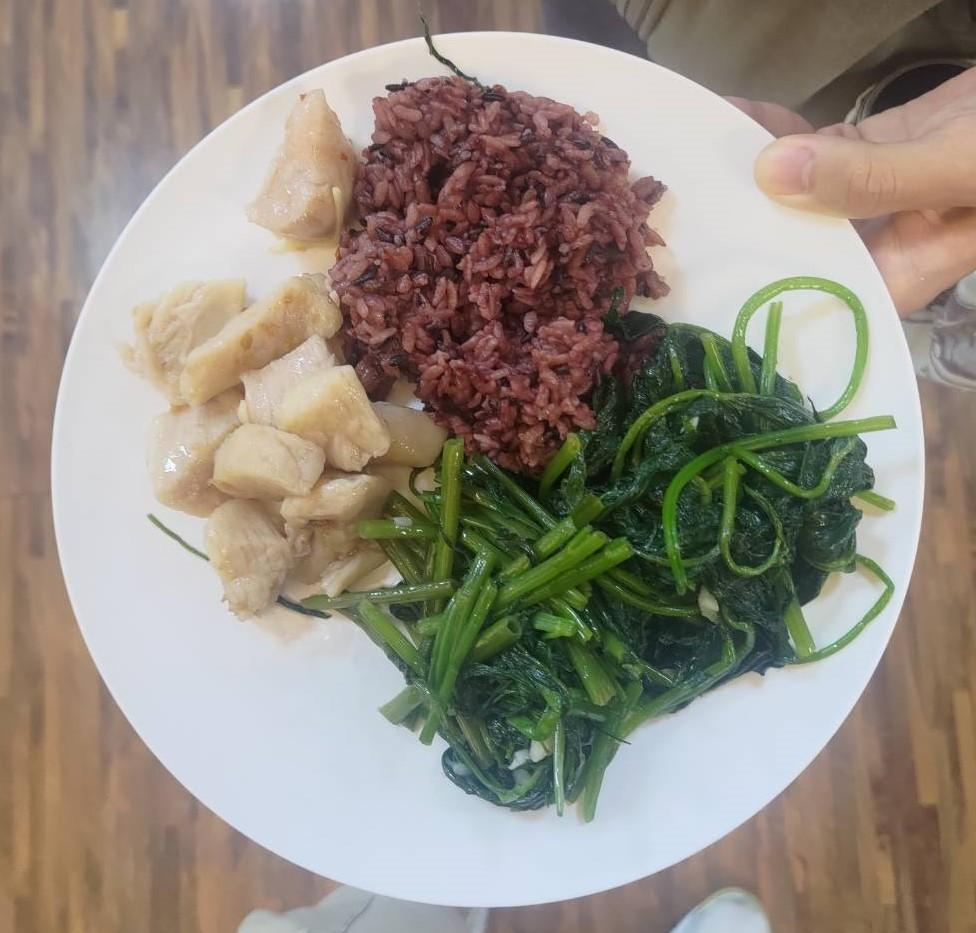big fried chicken leg: (42, 16, 943, 913)
braised fish: (335, 70, 650, 470)
braised fish fillet: (364, 316, 884, 815)
braised pork: (121, 80, 426, 625)
